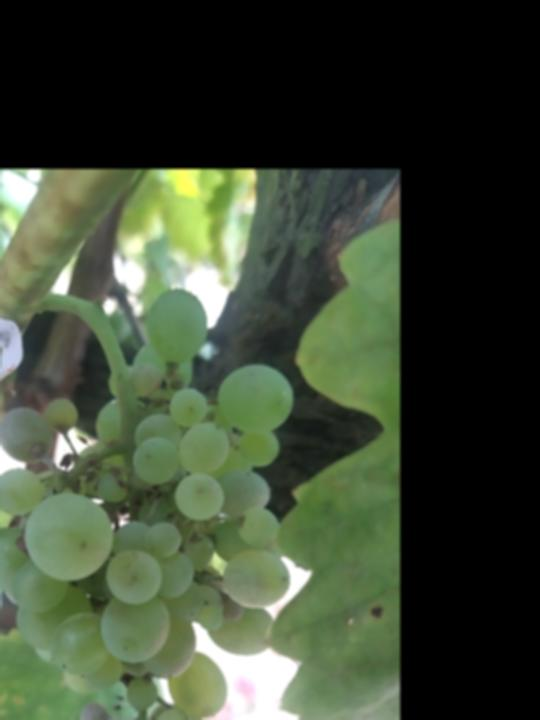grape: (0, 282, 298, 720)
